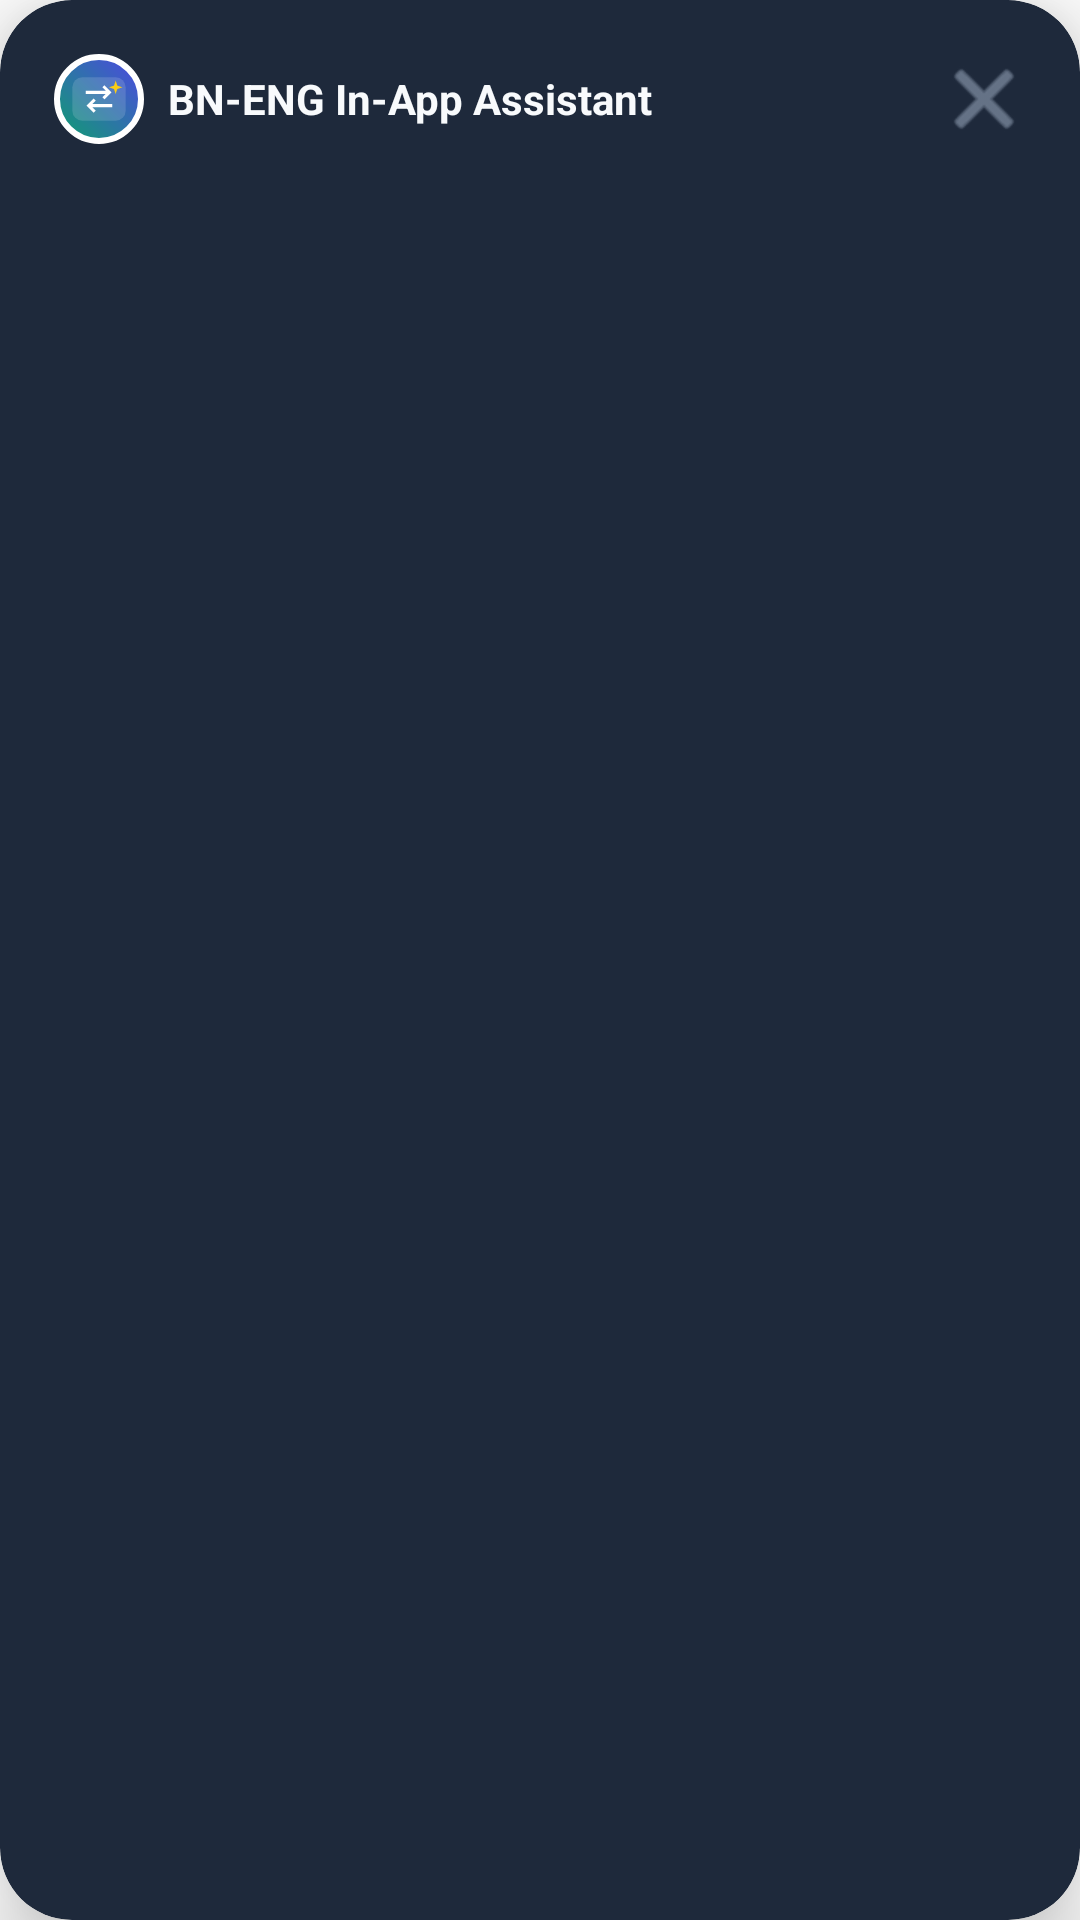

Named icons in this screenshot (1080 x 1920) and their bounding boxes, (x1, y1, x2, y2):
close clear cancel: (954, 69, 1014, 129)
